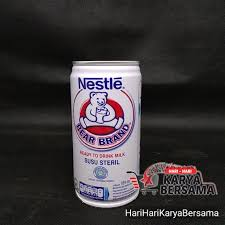Bear Brand Susu Steril (189ml): (64, 58, 144, 205)
